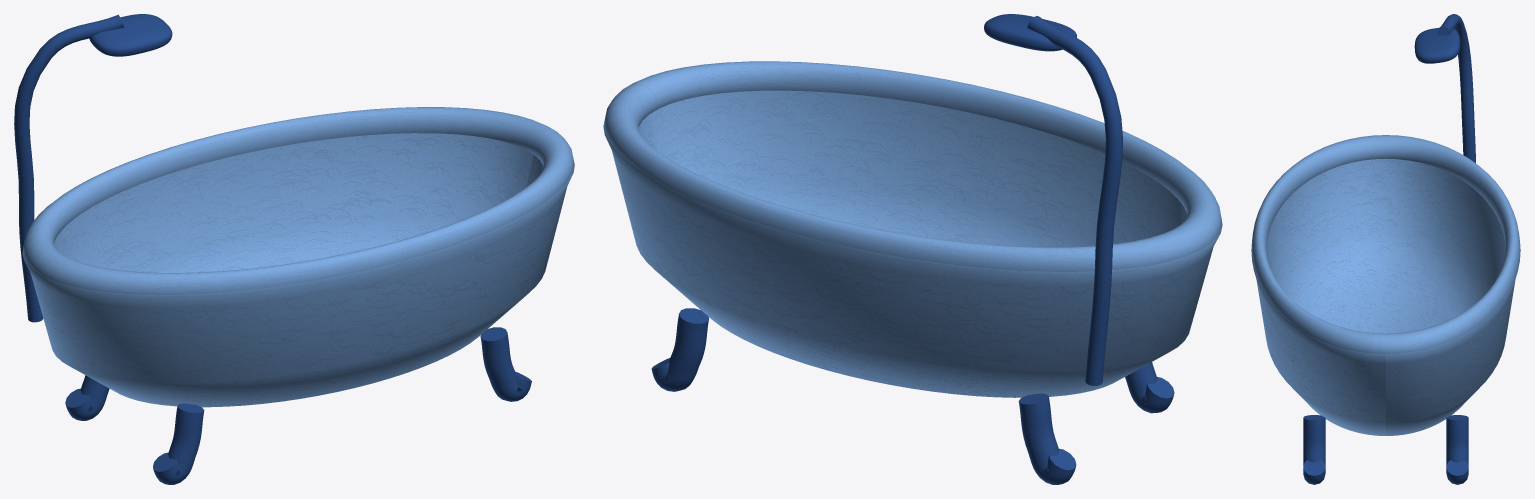
File: bathtub.glb
3 renders of one model, left to right at view 1: azimuth 30°, elevation 25°; view 2: azimuth 150°, elevation 25°; view 3: azimuth 270°, elevation 25°, orthographic. The views are drawn at different scales.
Visible parts, largest first — view 1: bathtub_blue porcelain, bathtub_blue iron; view 2: bathtub_blue porcelain, bathtub_blue iron; view 3: bathtub_blue porcelain, bathtub_blue iron.
Boxes of the visible parts, left/top/right/bottom form: bathtub_blue porcelain: left=22, top=107, right=574, bottom=407; bathtub_blue iron: left=14, top=14, right=531, bottom=484; bathtub_blue porcelain: left=603, top=61, right=1222, bottom=397; bathtub_blue iron: left=651, top=14, right=1174, bottom=484; bathtub_blue porcelain: left=1251, top=135, right=1520, bottom=435; bathtub_blue iron: left=1303, top=14, right=1475, bottom=484.
Size of the model in its own units: 1.74 by 1.27 by 0.9396.
Materials: 2 (1 with a texture image).
